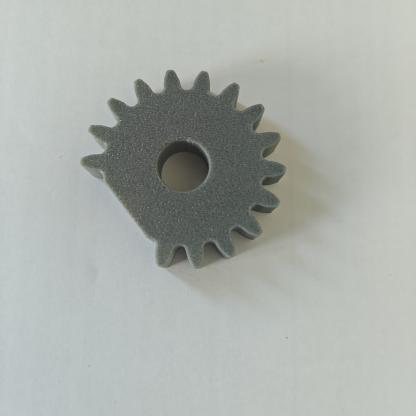defect: (78, 147, 170, 278)
gear: (70, 68, 307, 306)
